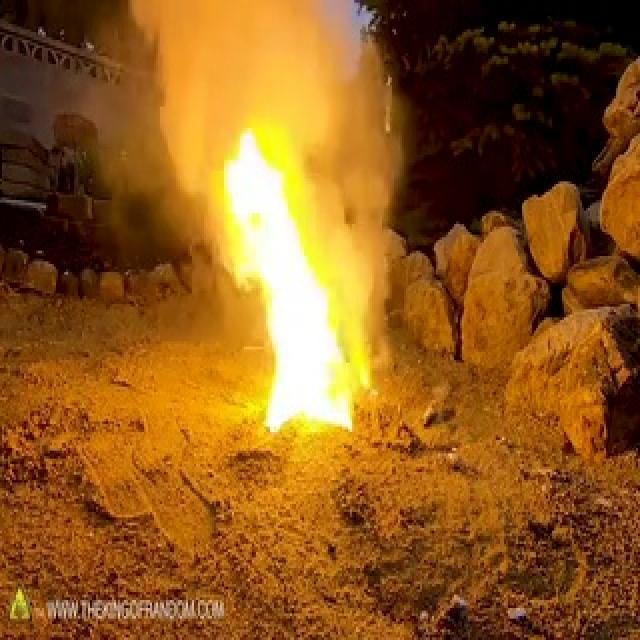Fire: (216, 136, 364, 443)
